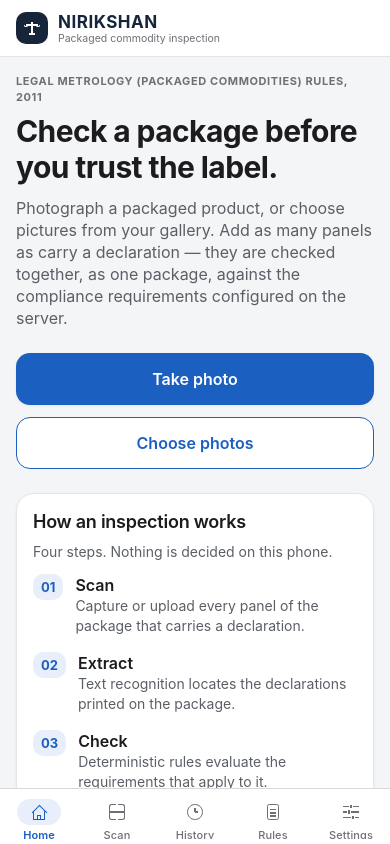
Test: the scan flow › shows a backend validation error about the photos without losing them
Click the button with test id "choose-from-gallery". click: click(195, 443)
box: [16,417,374,469]
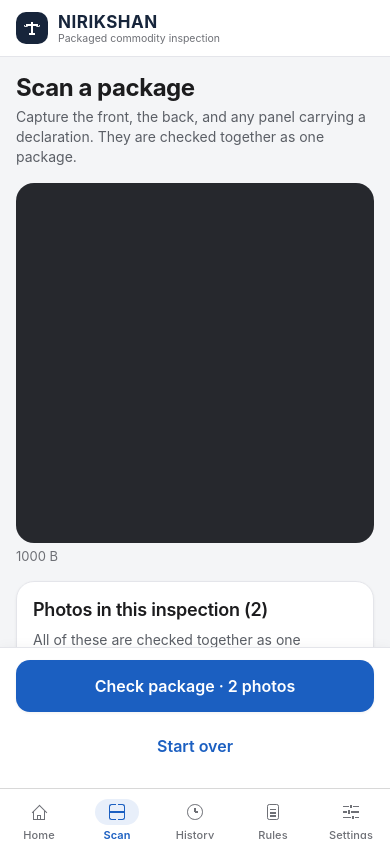
Now the element with test id "scan-screen" is shown
Click the button with test id "check-package". click: click(195, 686)
box: [16,660,374,712]
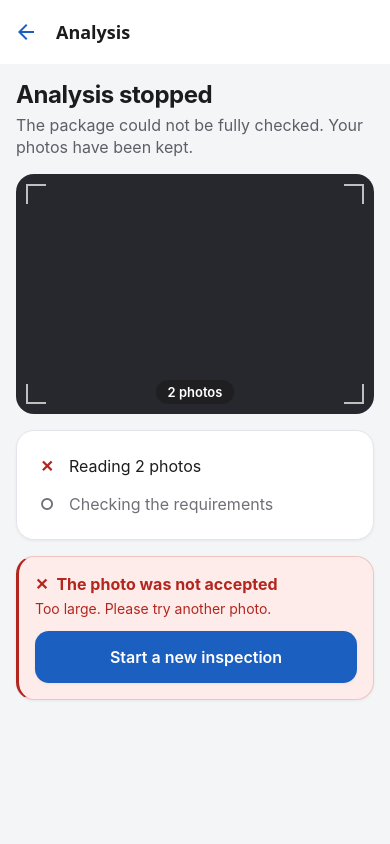
Now the message with test id "analysis-error" is shown, box [16,556,374,700]
